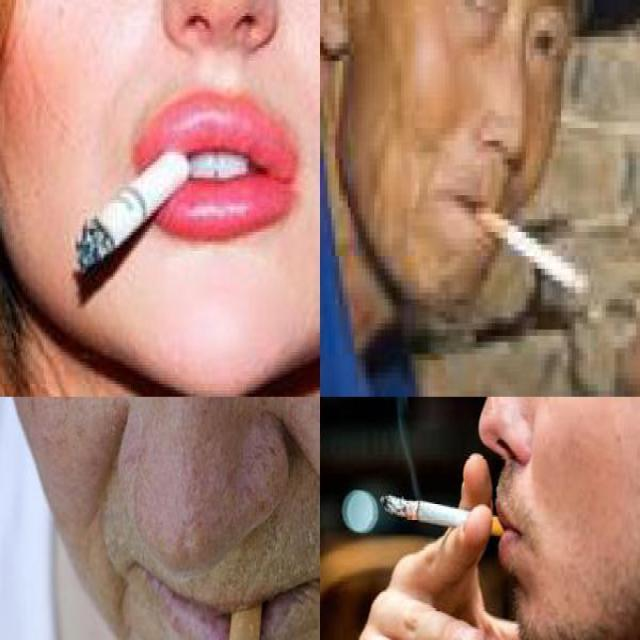smoking: (76, 151, 190, 270), (474, 204, 586, 298), (380, 494, 518, 544)
